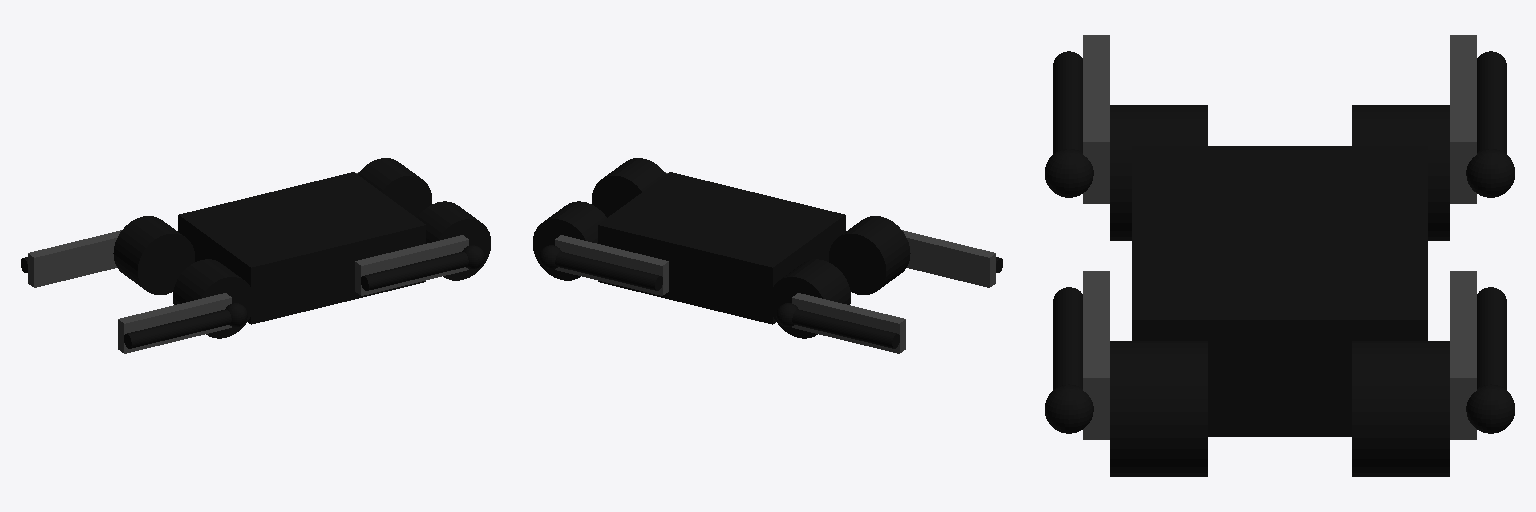
robot.urdf — ngr:
<?xml version="1.0" ?>
<!-- =================================================================================== -->
<!-- |    This document was autogenerated by xacro from spirit.urdf.xacro              | -->
<!-- |    EDITING THIS FILE BY HAND IS NOT RECOMMENDED                                 | -->
<!-- =================================================================================== -->
<!-- 
MIT License (modified)

Copyright (c) 2020 Ghost Robotics
Authors:
[author] <[email redacted]>
[author] <[email redacted]>

Permission is hereby granted, free of charge, to any person obtaining a copy
of this **file** (the "Software"), to deal
in the Software without restriction, including without limitation the rights
to use, copy, modify, merge, publish, distribute, sublicense, and/or sell
copies of the Software, and to permit persons to whom the Software is
furnished to do so, subject to the following conditions:

The above copyright notice and this permission notice shall be included in all
copies or substantial portions of the Software.

THE SOFTWARE IS PROVIDED "AS IS", WITHOUT WARRANTY OF ANY KIND, EXPRESS OR
IMPLIED, INCLUDING BUT NOT LIMITED TO THE WARRANTIES OF MERCHANTABILITY,
FITNESS FOR A PARTICULAR PURPOSE AND NONINFRINGEMENT. IN NO EVENT SHALL THE
AUTHORS OR COPYRIGHT [author] ANY CLAIM, DAMAGES OR OTHER
LIABILITY, WHETHER IN AN ACTION OF CONTRACT, TORT OR OTHERWISE, ARISING FROM,
OUT OF OR IN CONNECTION WITH THE SOFTWARE OR THE USE OR OTHER DEALINGS IN THE
SOFTWARE. 
-->
<robot name="ngr" xmlns:xacro="http://www.ros.org/wiki/xacro">
  <!-- Define parameters -->
  <!-- bodyLength + hipdx should be equal to front to back hip distance -->
  <!-- dy +  dPodAxisToEdge + upperLegWidth should be equal to the center to toe distance along y axis-->
  <!-- guess -->
  <!-- guess -->
  <!-- guess -->
  <!-- guess -->
  <!-- guess -->
  <!-- guess -->
  <!--visual only-->
  <!--center of pod cylinder to the ab axis-->
  <!-- Define materials -->
  <material name="darkgray">
    <color rgba="0.1 0.1 0.1 1.0"/>
  </material>
  <material name="silver">
    <color rgba="0.3 0.3 0.3 1.0"/>
  </material>
  <material name="red">
    <color rgba="0.8 0.0 0.2 1.0"/>
  </material>
  <!-- Body -->
  <link name="body">
    <visual>
      <origin rpy="0 0 0" xyz="0 0 0"/>
      <geometry>
        <box size="0.335 0.24 0.104"/>
      </geometry>
      <material name="darkgray"/>
    </visual>
    <inertial>
      <mass value="5.75"/>
      <!-- Uniform box -->
      <!-- <inertia ixx="1/12*${bodyMass}*(${bodyWidth}*${bodyWidth} + ${bodyHeight}*${bodyHeight})"  ixy="0"  ixz="0" iyy="1/12*${bodyMass}*(${bodyLength}*${bodyLength} + ${bodyHeight}*${bodyHeight})" iyz="0" izz="1/12*${bodyMass}*(${bodyLength}*${bodyLength} + ${bodyWidth}*${bodyWidth})"/> -->
      <inertia ixx="0.05" ixy="0" ixz="0" iyy="0.1" iyz="0" izz="0.1"/>
    </inertial>
    <!-- Just copy geometry for collision -->
    <collision>
      <origin rpy="0 0 0" xyz="0 0 0"/>
      <geometry>
        <box size="0.335 0.24 0.104"/>
      </geometry>
    </collision>
  </link>
  <!-- Define our leg macro -->
  <!-- Our four legs -->
  <!-- Hip motor -->
  <link name="hip0">
    <visual>
      <origin rpy="1.5707963268 0 0" xyz="0.0 0.028 0"/>
      <geometry>
        <cylinder length="0.08" radius="0.055"/>
      </geometry>
      <material name="darkgray"/>
    </visual>
    <collision>
      <origin rpy="1.5707963268 0 0" xyz="0 0.028 0"/>
      <geometry>
        <cylinder length="0.08" radius="0.055"/>
      </geometry>
    </collision>
    <inertial>
      <mass value="0.575"/>
      <!-- <inertia ixx="1/12*${podMass}*${podLength}*${podLength} + 1/4*${podMass}*${podRadius}*${podRadius}"  ixy="0"  ixz="0" iyy="1/12*${podMass}*${podLength}*${podLength} + 1/4*${podMass}*${podRadius}*${podRadius}" iyz="0" izz="1/2*${podMass}*${podRadius}*$
				{podRadius}" /> -->
      <inertia ixx="0.00066963541" ixy="0" ixz="0" iyy="0.00066963541" iyz="0" izz="0.0008696875"/>
    </inertial>
  </link>
  <!-- Abduction joint. Joint names are: 8 9 10 11 -->
  <joint name="8" type="revolute">
    <parent link="body"/>
    <child link="hip0"/>
    <axis xyz="1 0 0"/>
    <origin xyz="0.2263 0.07 0"/>
    <limit effort="21" lower="-0.707" upper="0.707" velocity="37.7"/>
    <dynamics damping="0.0" friction="0.0"/>
  </joint>
  <!-- Upper leg -->
  <link name="upper0">
    <visual>
      <origin rpy="0 0 0" xyz="-0.103 -0.022 0"/>
      <geometry>
        <box size="0.206 0.022 0.055"/>
      </geometry>
      <material name="silver"/>
    </visual>
    <collision>
      <origin rpy="0 0 0" xyz="-0.103 -0.022 0"/>
      <geometry>
        <box size="0.206 0.022 0.055"/>
      </geometry>
    </collision>
    <inertial>
      <mass value="0.775"/>
      <inertia ixx="5e-05" ixy="0" ixz="0" iyy="0.001" iyz="0" izz="0.001"/>
    </inertial>
  </link>
  <!-- Hip joint. (Motor to upper leg). Joint names are: 0 2 4 6 -->
  <joint name="0" type="revolute">
    <parent link="hip0"/>
    <child link="upper0"/>
    <axis xyz="0 -1 0"/>
    <origin xyz="0.0 0.10098 0"/>
    <!--  rpy="0 -0.3 0" -->
    <limit effort="21" lower="-6.28318530718" upper="6.28318530718" velocity="37.7"/>
    <dynamics damping="0.0" friction="0.0"/>
  </joint>
  <!-- Lower leg -->
  <link name="lower0">
    <visual>
      <origin rpy="0 1.5707963268 0" xyz="0.103 0 0"/>
      <geometry>
        <cylinder length="0.206" radius="0.013"/>
      </geometry>
      <material name="darkgray"/>
    </visual>
    <collision>
      <origin rpy="0 1.5707963268 0" xyz="0.103 0 0"/>
      <geometry>
        <cylinder length="0.206" radius="0.013"/>
      </geometry>
    </collision>
    <inertial>
      <mass value="0.075"/>
      <inertia ixx="5e-06" ixy="0" ixz="0" iyy="0.0001" iyz="0" izz="0.0001"/>
    </inertial>
  </link>
  <!-- Knee joint. Joint names are: 1 3 5 7 -->
  <joint name="1" type="revolute">
    <parent link="upper0"/>
    <child link="lower0"/>
    <axis xyz="0 1 0"/>
    <origin xyz="-0.206 0 0"/>
    <!--rpy="0 0.5 0"-->
    <limit effort="32" lower="0" upper="3.14159265359" velocity="25.67"/>
    <dynamics damping="0.0" friction="0.0"/>
  </joint>
  <!-- Toe -->
  <link name="toe0">
    <contact>
      <friction_anchor/>
      <stiffness value="30000.0"/>
      <damping value="1000.0"/>
      <spinning_friction value="0.3"/>
      <lateral_friction value="3.0"/>
    </contact>
    <visual>
      <origin rpy="0 0 0" xyz="0 0 0"/>
      <geometry>
        <sphere radius="0.02"/>
      </geometry>
      <material name="darkgray"/>
    </visual>
    <collision>
      <origin rpy="0 0 0" xyz="0 0 0"/>
      <geometry>
        <sphere radius="0.02"/>
      </geometry>
    </collision>
    <inertial>
      <mass value="0.015"/>
      <inertia ixx="0.000025" ixy="0" ixz="0" iyy="0.000025" iyz="0" izz="0.000025"/>
      <!-- <inertia ixx="2/5*${toeMass}*${toeRadius}*${toeRadius}"  ixy="0"  ixz="0" iyy="2/5*${toeMass}*${toeRadius}*${toeRadius}" iyz="0" izz="2/5*${toeMass}*${toeRadius}*${toeRadius}" /> -->
    </inertial>
  </link>
  <joint name="jtoe0" type="fixed">
    <parent link="lower0"/>
    <child link="toe0"/>
    <origin xyz="0.206 0 -0.0"/>
    <dynamics damping="0.0" friction="0.0"/>
  </joint>
  <!-- Hip motor -->
  <link name="hip1">
    <visual>
      <origin rpy="1.5707963268 0 0" xyz="-0.0 0.028 0"/>
      <geometry>
        <cylinder length="0.08" radius="0.055"/>
      </geometry>
      <material name="darkgray"/>
    </visual>
    <collision>
      <origin rpy="1.5707963268 0 0" xyz="0 0.028 0"/>
      <geometry>
        <cylinder length="0.08" radius="0.055"/>
      </geometry>
    </collision>
    <inertial>
      <mass value="0.575"/>
      <!-- <inertia ixx="1/12*${podMass}*${podLength}*${podLength} + 1/4*${podMass}*${podRadius}*${podRadius}"  ixy="0"  ixz="0" iyy="1/12*${podMass}*${podLength}*${podLength} + 1/4*${podMass}*${podRadius}*${podRadius}" iyz="0" izz="1/2*${podMass}*${podRadius}*$
				{podRadius}" /> -->
      <inertia ixx="0.00066963541" ixy="0" ixz="0" iyy="0.00066963541" iyz="0" izz="0.0008696875"/>
    </inertial>
  </link>
  <!-- Abduction joint. Joint names are: 8 9 10 11 -->
  <joint name="9" type="revolute">
    <parent link="body"/>
    <child link="hip1"/>
    <axis xyz="1 0 0"/>
    <origin xyz="-0.2263 0.07 0"/>
    <limit effort="21" lower="-0.707" upper="0.707" velocity="37.7"/>
    <dynamics damping="0.0" friction="0.0"/>
  </joint>
  <!-- Upper leg -->
  <link name="upper1">
    <visual>
      <origin rpy="0 0 0" xyz="-0.103 -0.022 0"/>
      <geometry>
        <box size="0.206 0.022 0.055"/>
      </geometry>
      <material name="silver"/>
    </visual>
    <collision>
      <origin rpy="0 0 0" xyz="-0.103 -0.022 0"/>
      <geometry>
        <box size="0.206 0.022 0.055"/>
      </geometry>
    </collision>
    <inertial>
      <mass value="0.775"/>
      <inertia ixx="5e-05" ixy="0" ixz="0" iyy="0.001" iyz="0" izz="0.001"/>
    </inertial>
  </link>
  <!-- Hip joint. (Motor to upper leg). Joint names are: 0 2 4 6 -->
  <joint name="2" type="revolute">
    <parent link="hip1"/>
    <child link="upper1"/>
    <axis xyz="0 -1 0"/>
    <origin xyz="-0.0 0.10098 0"/>
    <!--  rpy="0 -0.3 0" -->
    <limit effort="21" lower="-6.28318530718" upper="6.28318530718" velocity="37.7"/>
    <dynamics damping="0.0" friction="0.0"/>
  </joint>
  <!-- Lower leg -->
  <link name="lower1">
    <visual>
      <origin rpy="0 1.5707963268 0" xyz="0.103 0 0"/>
      <geometry>
        <cylinder length="0.206" radius="0.013"/>
      </geometry>
      <material name="darkgray"/>
    </visual>
    <collision>
      <origin rpy="0 1.5707963268 0" xyz="0.103 0 0"/>
      <geometry>
        <cylinder length="0.206" radius="0.013"/>
      </geometry>
    </collision>
    <inertial>
      <mass value="0.075"/>
      <inertia ixx="5e-06" ixy="0" ixz="0" iyy="0.0001" iyz="0" izz="0.0001"/>
    </inertial>
  </link>
  <!-- Knee joint. Joint names are: 1 3 5 7 -->
  <joint name="3" type="revolute">
    <parent link="upper1"/>
    <child link="lower1"/>
    <axis xyz="0 1 0"/>
    <origin xyz="-0.206 0 0"/>
    <!--rpy="0 0.5 0"-->
    <limit effort="32" lower="0" upper="3.14159265359" velocity="25.67"/>
    <dynamics damping="0.0" friction="0.0"/>
  </joint>
  <!-- Toe -->
  <link name="toe1">
    <contact>
      <friction_anchor/>
      <stiffness value="30000.0"/>
      <damping value="1000.0"/>
      <spinning_friction value="0.3"/>
      <lateral_friction value="3.0"/>
    </contact>
    <visual>
      <origin rpy="0 0 0" xyz="0 0 0"/>
      <geometry>
        <sphere radius="0.02"/>
      </geometry>
      <material name="darkgray"/>
    </visual>
    <collision>
      <origin rpy="0 0 0" xyz="0 0 0"/>
      <geometry>
        <sphere radius="0.02"/>
      </geometry>
    </collision>
    <inertial>
      <mass value="0.015"/>
      <inertia ixx="0.000025" ixy="0" ixz="0" iyy="0.000025" iyz="0" izz="0.000025"/>
      <!-- <inertia ixx="2/5*${toeMass}*${toeRadius}*${toeRadius}"  ixy="0"  ixz="0" iyy="2/5*${toeMass}*${toeRadius}*${toeRadius}" iyz="0" izz="2/5*${toeMass}*${toeRadius}*${toeRadius}" /> -->
    </inertial>
  </link>
  <joint name="jtoe1" type="fixed">
    <parent link="lower1"/>
    <child link="toe1"/>
    <origin xyz="0.206 0 -0.0"/>
    <dynamics damping="0.0" friction="0.0"/>
  </joint>
  <!-- Hip motor -->
  <link name="hip2">
    <visual>
      <origin rpy="1.5707963268 0 0" xyz="0.0 -0.028 0"/>
      <geometry>
        <cylinder length="0.08" radius="0.055"/>
      </geometry>
      <material name="darkgray"/>
    </visual>
    <collision>
      <origin rpy="1.5707963268 0 0" xyz="0 -0.028 0"/>
      <geometry>
        <cylinder length="0.08" radius="0.055"/>
      </geometry>
    </collision>
    <inertial>
      <mass value="0.575"/>
      <!-- <inertia ixx="1/12*${podMass}*${podLength}*${podLength} + 1/4*${podMass}*${podRadius}*${podRadius}"  ixy="0"  ixz="0" iyy="1/12*${podMass}*${podLength}*${podLength} + 1/4*${podMass}*${podRadius}*${podRadius}" iyz="0" izz="1/2*${podMass}*${podRadius}*$
				{podRadius}" /> -->
      <inertia ixx="0.00066963541" ixy="0" ixz="0" iyy="0.00066963541" iyz="0" izz="0.0008696875"/>
    </inertial>
  </link>
  <!-- Abduction joint. Joint names are: 8 9 10 11 -->
  <joint name="10" type="revolute">
    <parent link="body"/>
    <child link="hip2"/>
    <axis xyz="1 0 0"/>
    <origin xyz="0.2263 -0.07 0"/>
    <limit effort="21" lower="-0.707" upper="0.707" velocity="37.7"/>
    <dynamics damping="0.0" friction="0.0"/>
  </joint>
  <!-- Upper leg -->
  <link name="upper2">
    <visual>
      <origin rpy="0 0 0" xyz="-0.103 0.022 0"/>
      <geometry>
        <box size="0.206 0.022 0.055"/>
      </geometry>
      <material name="silver"/>
    </visual>
    <collision>
      <origin rpy="0 0 0" xyz="-0.103 0.022 0"/>
      <geometry>
        <box size="0.206 0.022 0.055"/>
      </geometry>
    </collision>
    <inertial>
      <mass value="0.775"/>
      <inertia ixx="5e-05" ixy="0" ixz="0" iyy="0.001" iyz="0" izz="0.001"/>
    </inertial>
  </link>
  <!-- Hip joint. (Motor to upper leg). Joint names are: 0 2 4 6 -->
  <joint name="4" type="revolute">
    <parent link="hip2"/>
    <child link="upper2"/>
    <axis xyz="0 -1 0"/>
    <origin xyz="0.0 -0.10098 0"/>
    <!--  rpy="0 -0.3 0" -->
    <limit effort="21" lower="-6.28318530718" upper="6.28318530718" velocity="37.7"/>
    <dynamics damping="0.0" friction="0.0"/>
  </joint>
  <!-- Lower leg -->
  <link name="lower2">
    <visual>
      <origin rpy="0 1.5707963268 0" xyz="0.103 0 0"/>
      <geometry>
        <cylinder length="0.206" radius="0.013"/>
      </geometry>
      <material name="darkgray"/>
    </visual>
    <collision>
      <origin rpy="0 1.5707963268 0" xyz="0.103 0 0"/>
      <geometry>
        <cylinder length="0.206" radius="0.013"/>
      </geometry>
    </collision>
    <inertial>
      <mass value="0.075"/>
      <inertia ixx="5e-06" ixy="0" ixz="0" iyy="0.0001" iyz="0" izz="0.0001"/>
    </inertial>
  </link>
  <!-- Knee joint. Joint names are: 1 3 5 7 -->
  <joint name="5" type="revolute">
    <parent link="upper2"/>
    <child link="lower2"/>
    <axis xyz="0 1 0"/>
    <origin xyz="-0.206 0 0"/>
    <!--rpy="0 0.5 0"-->
    <limit effort="32" lower="0" upper="3.14159265359" velocity="25.67"/>
    <dynamics damping="0.0" friction="0.0"/>
  </joint>
  <!-- Toe -->
  <link name="toe2">
    <contact>
      <friction_anchor/>
      <stiffness value="30000.0"/>
      <damping value="1000.0"/>
      <spinning_friction value="0.3"/>
      <lateral_friction value="3.0"/>
    </contact>
    <visual>
      <origin rpy="0 0 0" xyz="0 0 0"/>
      <geometry>
        <sphere radius="0.02"/>
      </geometry>
      <material name="darkgray"/>
    </visual>
    <collision>
      <origin rpy="0 0 0" xyz="0 0 0"/>
      <geometry>
        <sphere radius="0.02"/>
      </geometry>
    </collision>
    <inertial>
      <mass value="0.015"/>
      <inertia ixx="0.000025" ixy="0" ixz="0" iyy="0.000025" iyz="0" izz="0.000025"/>
      <!-- <inertia ixx="2/5*${toeMass}*${toeRadius}*${toeRadius}"  ixy="0"  ixz="0" iyy="2/5*${toeMass}*${toeRadius}*${toeRadius}" iyz="0" izz="2/5*${toeMass}*${toeRadius}*${toeRadius}" /> -->
    </inertial>
  </link>
  <joint name="jtoe2" type="fixed">
    <parent link="lower2"/>
    <child link="toe2"/>
    <origin xyz="0.206 0 -0.0"/>
    <dynamics damping="0.0" friction="0.0"/>
  </joint>
  <!-- Hip motor -->
  <link name="hip3">
    <visual>
      <origin rpy="1.5707963268 0 0" xyz="-0.0 -0.028 0"/>
      <geometry>
        <cylinder length="0.08" radius="0.055"/>
      </geometry>
      <material name="darkgray"/>
    </visual>
    <collision>
      <origin rpy="1.5707963268 0 0" xyz="0 -0.028 0"/>
      <geometry>
        <cylinder length="0.08" radius="0.055"/>
      </geometry>
    </collision>
    <inertial>
      <mass value="0.575"/>
      <!-- <inertia ixx="1/12*${podMass}*${podLength}*${podLength} + 1/4*${podMass}*${podRadius}*${podRadius}"  ixy="0"  ixz="0" iyy="1/12*${podMass}*${podLength}*${podLength} + 1/4*${podMass}*${podRadius}*${podRadius}" iyz="0" izz="1/2*${podMass}*${podRadius}*$
				{podRadius}" /> -->
      <inertia ixx="0.00066963541" ixy="0" ixz="0" iyy="0.00066963541" iyz="0" izz="0.0008696875"/>
    </inertial>
  </link>
  <!-- Abduction joint. Joint names are: 8 9 10 11 -->
  <joint name="11" type="revolute">
    <parent link="body"/>
    <child link="hip3"/>
    <axis xyz="1 0 0"/>
    <origin xyz="-0.2263 -0.07 0"/>
    <limit effort="21" lower="-0.707" upper="0.707" velocity="37.7"/>
    <dynamics damping="0.0" friction="0.0"/>
  </joint>
  <!-- Upper leg -->
  <link name="upper3">
    <visual>
      <origin rpy="0 0 0" xyz="-0.103 0.022 0"/>
      <geometry>
        <box size="0.206 0.022 0.055"/>
      </geometry>
      <material name="silver"/>
    </visual>
    <collision>
      <origin rpy="0 0 0" xyz="-0.103 0.022 0"/>
      <geometry>
        <box size="0.206 0.022 0.055"/>
      </geometry>
    </collision>
    <inertial>
      <mass value="0.775"/>
      <inertia ixx="5e-05" ixy="0" ixz="0" iyy="0.001" iyz="0" izz="0.001"/>
    </inertial>
  </link>
  <!-- Hip joint. (Motor to upper leg). Joint names are: 0 2 4 6 -->
  <joint name="6" type="revolute">
    <parent link="hip3"/>
    <child link="upper3"/>
    <axis xyz="0 -1 0"/>
    <origin xyz="-0.0 -0.10098 0"/>
    <!--  rpy="0 -0.3 0" -->
    <limit effort="21" lower="-6.28318530718" upper="6.28318530718" velocity="37.7"/>
  </joint>
  <dynamics damping="0.0" friction="0.0"/>
  <!-- Lower leg -->
  <link name="lower3">
    <visual>
      <origin rpy="0 1.5707963268 0" xyz="0.103 0 0"/>
      <geometry>
        <cylinder length="0.206" radius="0.013"/>
      </geometry>
      <material name="darkgray"/>
    </visual>
    <collision>
      <origin rpy="0 1.5707963268 0" xyz="0.103 0 0"/>
      <geometry>
        <cylinder length="0.206" radius="0.013"/>
      </geometry>
    </collision>
    <inertial>
      <mass value="0.075"/>
      <inertia ixx="5e-06" ixy="0" ixz="0" iyy="0.0001" iyz="0" izz="0.0001"/>
    </inertial>
  </link>
  <!-- Knee joint. Joint names are: 1 3 5 7 -->
  <joint name="7" type="revolute">
    <parent link="upper3"/>
    <child link="lower3"/>
    <axis xyz="0 1 0"/>
    <origin xyz="-0.206 0 0"/>
    <!--rpy="0 0.5 0"-->
    <limit effort="32" lower="0" upper="3.14159265359" velocity="25.67"/>
    <dynamics damping="0.0" friction="0.0"/>
  </joint>
  <!-- Toe -->
  <link name="toe3">
    <contact>
      <friction_anchor/>
      <stiffness value="30000.0"/>
      <damping value="1000.0"/>
      <spinning_friction value="0.3"/>
      <lateral_friction value="3.0"/>
    </contact>
    <visual>
      <origin rpy="0 0 0" xyz="0 0 0"/>
      <geometry>
        <sphere radius="0.02"/>
      </geometry>
      <material name="darkgray"/>
    </visual>
    <collision>
      <origin rpy="0 0 0" xyz="0 0 0"/>
      <geometry>
        <sphere radius="0.02"/>
      </geometry>
    </collision>
    <inertial>
      <mass value="0.015"/>
      <inertia ixx="0.000025" ixy="0" ixz="0" iyy="0.000025" iyz="0" izz="0.000025"/>
      <!-- <inertia ixx="2/5*${toeMass}*${toeRadius}*${toeRadius}"  ixy="0"  ixz="0" iyy="2/5*${toeMass}*${toeRadius}*${toeRadius}" iyz="0" izz="2/5*${toeMass}*${toeRadius}*${toeRadius}" /> -->
    </inertial>
  </link>
  <joint name="jtoe3" type="fixed">
    <parent link="lower3"/>
    <child link="toe3"/>
    <origin xyz="0.206 0 -0.0"/>
    <dynamics damping="0.0" friction="0.0"/>
  </joint>
</robot>

--- Render facts (derived) ---
Views: 3 orthographic renders of the robot side by side, from view 1: azimuth 30°, elevation 25°; view 2: azimuth 150°, elevation 25°; view 3: azimuth 270°, elevation 25°.
Model ngr with 17 links and 16 joints (12 revolute, 4 fixed), rooted at body, posed every joint at zero.
Visible links, largest first — view 1: body, hip1, upper1, hip3, hip2, upper2, upper3, hip0, lower3, lower2; view 2: body, hip3, upper3, hip1, hip0, upper0, upper1, hip2, lower1, lower0; view 3: body, hip0, hip2, hip1, hip3, upper0, upper2, upper1, upper3, lower1, lower3, lower0 (+5 smaller).
Link boxes in pixels (x1=…): body: x1=178, y1=172, x2=425, y2=324; hip1: x1=113, y1=216, x2=194, y2=294; upper1: x1=28, y1=230, x2=121, y2=287; hip3: x1=173, y1=259, x2=253, y2=338; hip2: x1=417, y1=201, x2=490, y2=280; upper2: x1=355, y1=235, x2=468, y2=295; upper3: x1=118, y1=293, x2=231, y2=353; hip0: x1=358, y1=158, x2=431, y2=217; lower3: x1=124, y1=309, x2=231, y2=348; lower2: x1=361, y1=252, x2=468, y2=290; body: x1=598, y1=172, x2=845, y2=324; hip3: x1=829, y1=216, x2=910, y2=294; upper3: x1=902, y1=230, x2=995, y2=287; hip1: x1=770, y1=259, x2=850, y2=338; hip0: x1=533, y1=201, x2=606, y2=280; upper0: x1=555, y1=235, x2=668, y2=295; upper1: x1=792, y1=293, x2=905, y2=353; hip2: x1=592, y1=158, x2=665, y2=217; lower1: x1=792, y1=309, x2=899, y2=348; lower0: x1=555, y1=252, x2=662, y2=290; body: x1=1132, y1=146, x2=1427, y2=436; hip0: x1=1352, y1=341, x2=1449, y2=476; hip2: x1=1110, y1=341, x2=1207, y2=476; hip1: x1=1352, y1=105, x2=1449, y2=240; hip3: x1=1110, y1=105, x2=1207, y2=240; upper0: x1=1450, y1=271, x2=1476, y2=439; upper2: x1=1083, y1=271, x2=1109, y2=439; upper1: x1=1450, y1=35, x2=1476, y2=203; upper3: x1=1083, y1=35, x2=1109, y2=203; lower1: x1=1477, y1=51, x2=1506, y2=153; lower3: x1=1053, y1=51, x2=1082, y2=153; lower0: x1=1477, y1=287, x2=1506, y2=389.
Size in the robot's own frame: 0.7136 by 0.382 by 0.11 metres.
Geometry: primitives only (box / cylinder / sphere), no mesh files.
